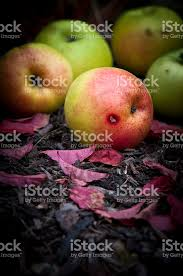damaged_apple: (69, 67, 154, 145), (3, 48, 75, 110)
